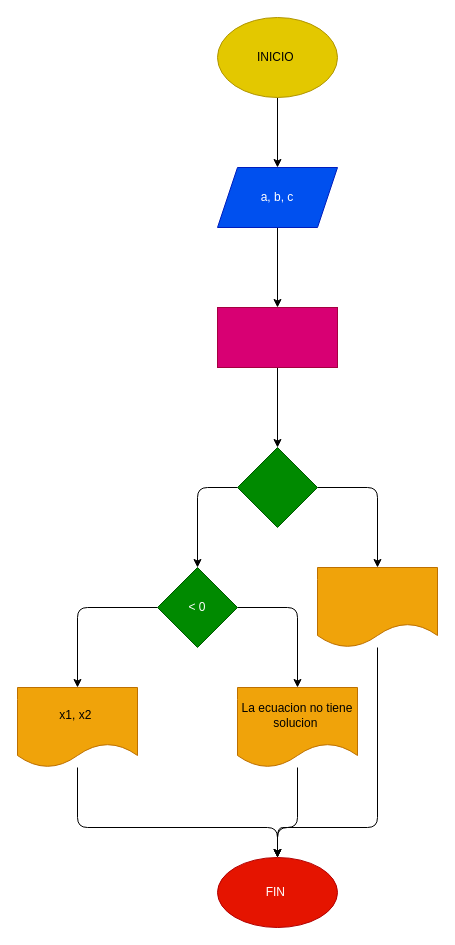
Image size: 455x945. Some labels were removed from this diagram. Each missing label, with the box of its shape:
(b *+ 2) - (4 * a * c): (216, 306, 338, 368)
a == 0: (236, 446, 318, 528)
Ecuacion de la forma lineal: (316, 566, 438, 648)
